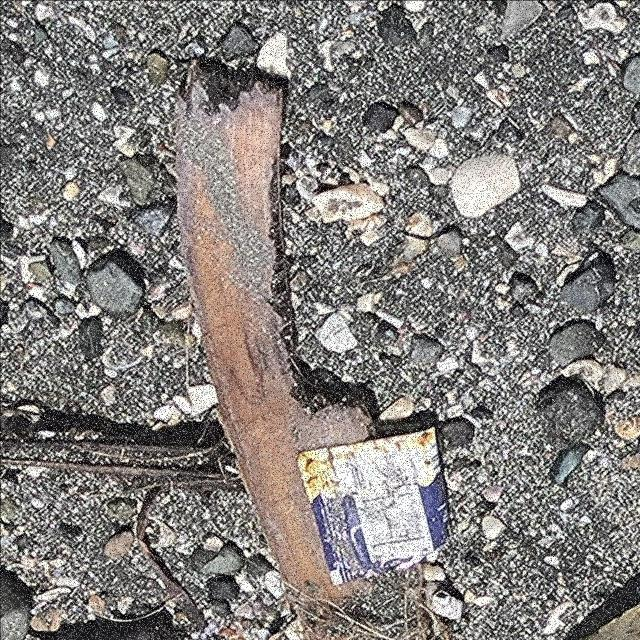plastic_waste: (295, 428, 455, 587)
